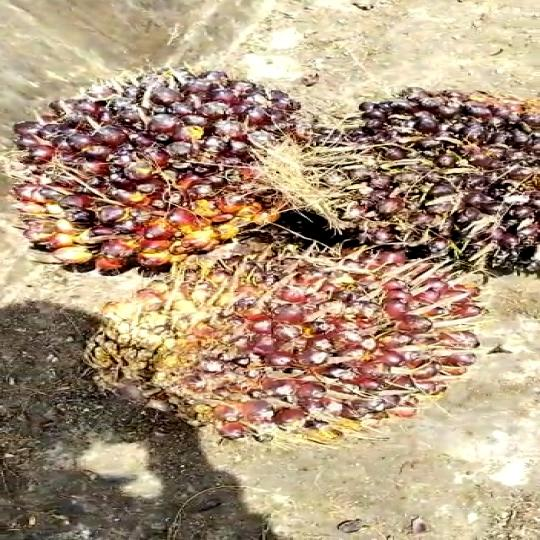kurang masak: (109, 235, 485, 450), (4, 65, 303, 268), (310, 78, 540, 272)
